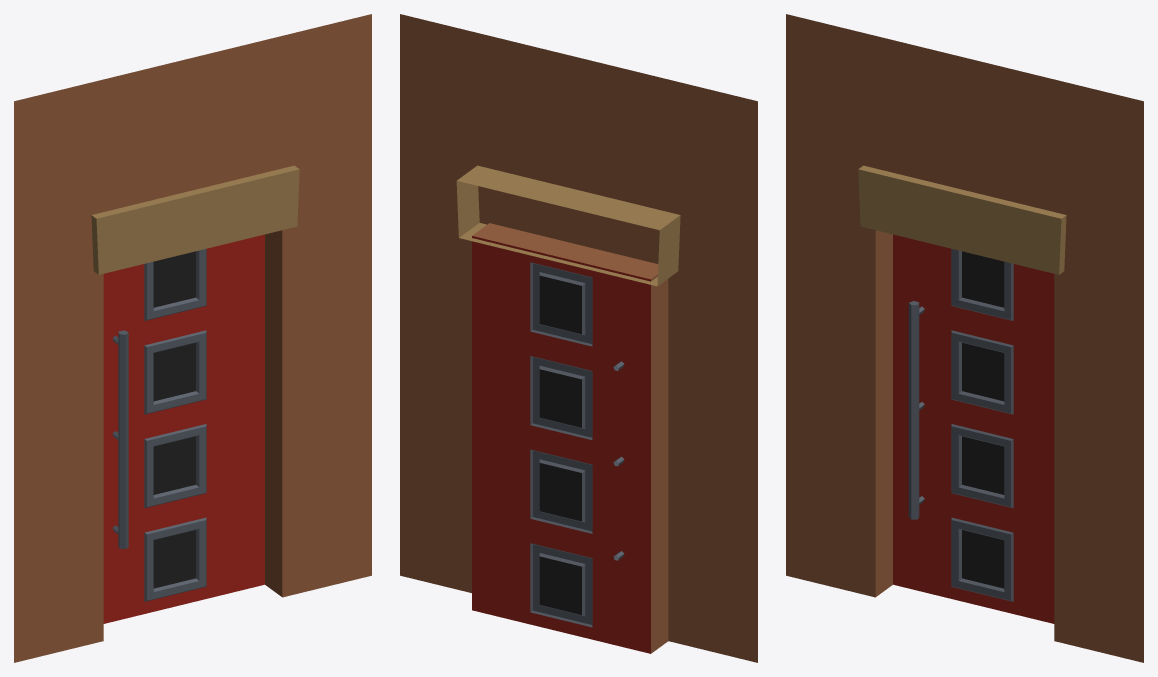
File: DoorE.fbx
3 renders of one model, left to right at view 1: azimuth 30°, elevation 25°; view 2: azimuth 150°, elevation 25°; view 3: azimuth 330°, elevation 25°, orthographic.
Visible parts, largest first — view 1: DoorE; view 2: DoorE; view 3: DoorE.
Boxes of the visible parts, x1,y1,x2,y2 form: DoorE: (14,14,371,662); DoorE: (400,14,757,662); DoorE: (786,14,1143,662).
Bounding box in the file's own units: 200 × 300 × 27.27.
